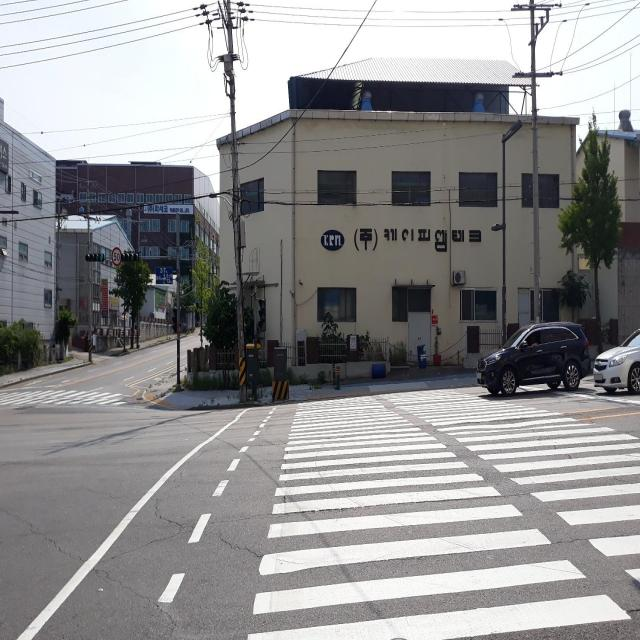횡단보도: (245, 386, 640, 640), (0, 388, 140, 414)
